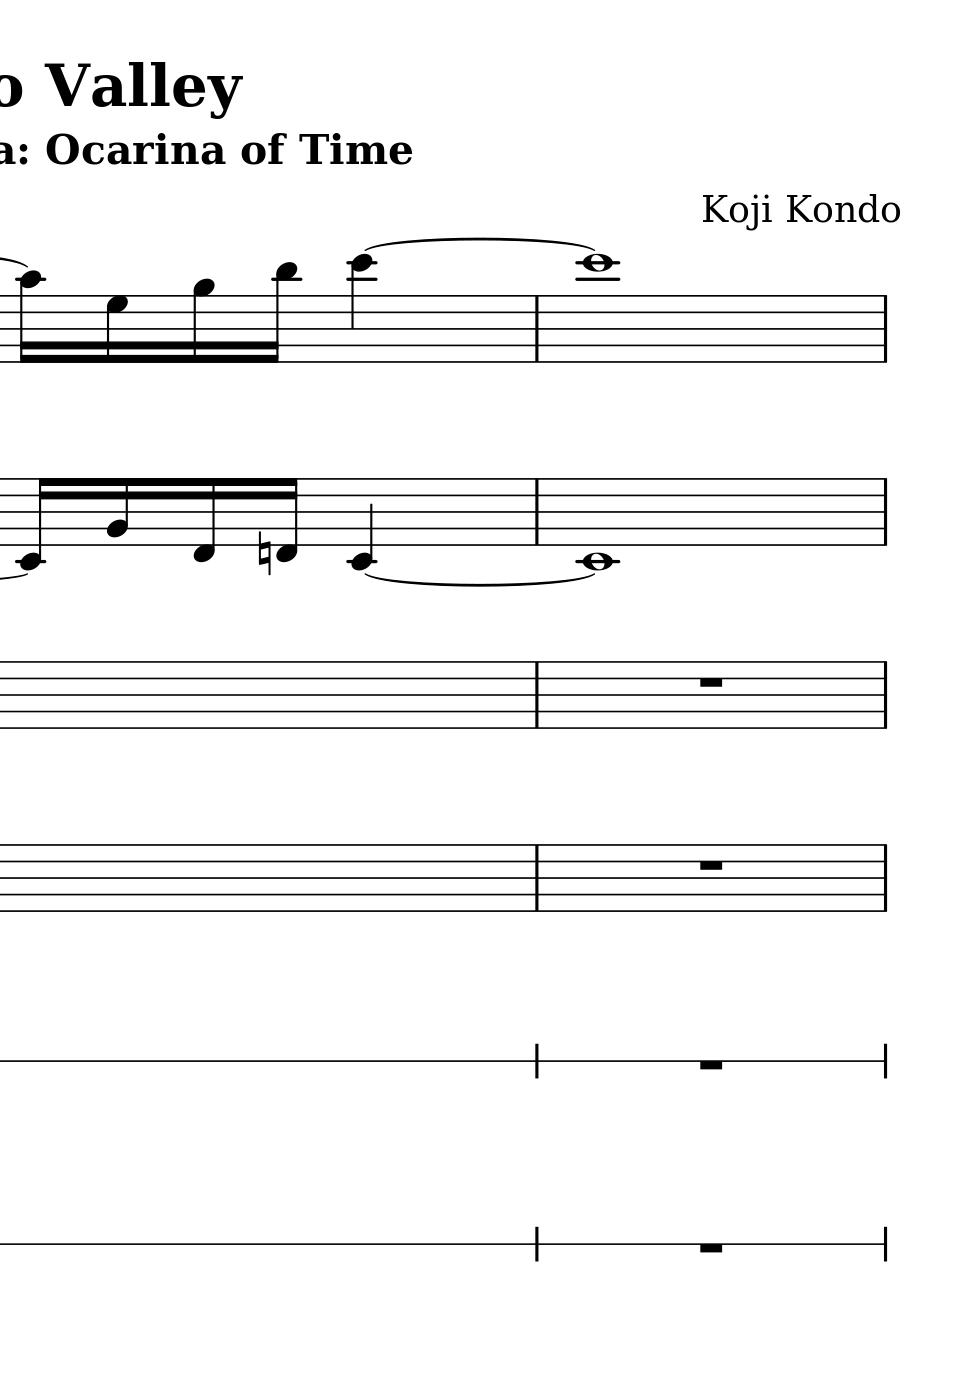16_-1: (191, 476, 218, 565), (275, 475, 299, 564)
16_-2: (15, 477, 52, 572)
16_10: (17, 271, 42, 366)
16_11: (262, 260, 298, 367)
16_2: (105, 476, 130, 547)
16_7: (103, 291, 128, 366)
16_9: (190, 277, 214, 366)
1_-2: (577, 477, 615, 573)
1_12: (574, 252, 616, 368)
4_-2: (346, 476, 375, 573)
4_12: (347, 253, 377, 365)
Natural: (256, 528, 272, 577)
Rests1: (694, 1240, 727, 1264), (694, 1057, 727, 1078), (695, 673, 727, 691), (695, 856, 727, 874)
Single_barline: (876, 478, 893, 546), (876, 661, 893, 729), (528, 295, 545, 362), (876, 844, 893, 911), (877, 295, 893, 363), (528, 845, 544, 911), (529, 662, 544, 729), (529, 479, 543, 544)
Slur: (363, 571, 595, 586), (363, 236, 603, 251)
